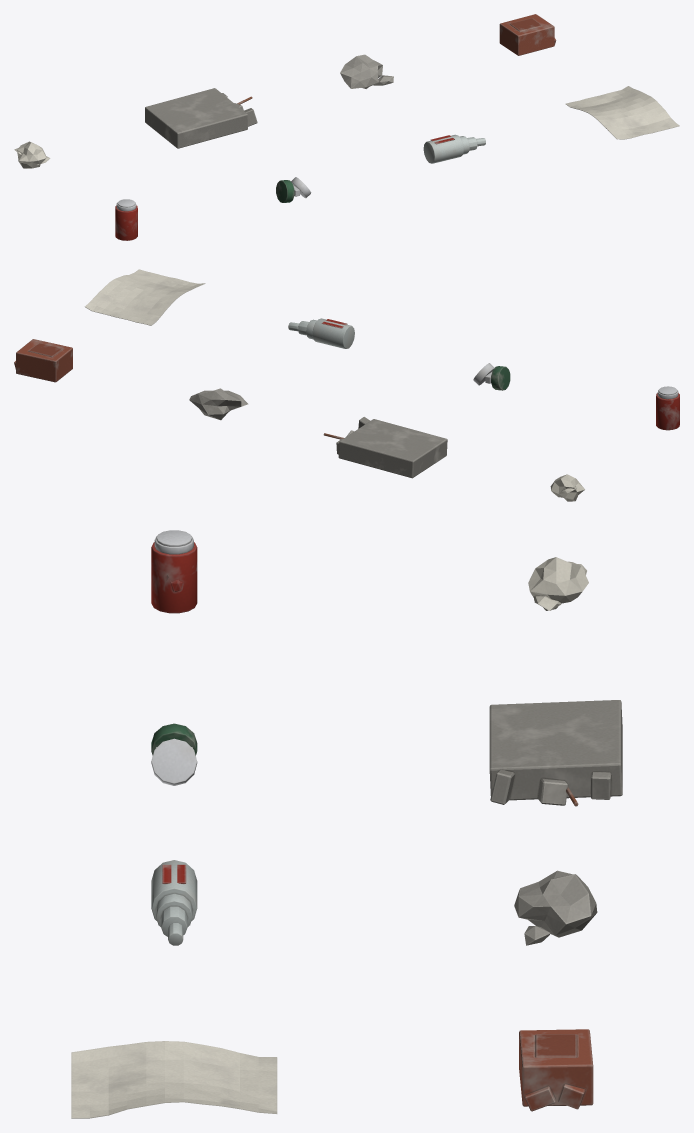
The model's file is litter_atlas.glb.
3 renders of one model, top to bottom at view 1: azimuth 30°, elevation 25°; view 2: azimuth 150°, elevation 25°; view 3: azimuth 270°, elevation 25°, orthographic. The views are drawn at different scales.
Parts seen in each view (by area): view 1: litter_atlas; view 2: litter_atlas; view 3: litter_atlas.
Boxes of the visible parts, box(x1,y1,x2,y2) form: litter_atlas: box(14, 14, 679, 240); litter_atlas: box(14, 269, 679, 501); litter_atlas: box(71, 530, 622, 1118).
Size of the model in its own units: 1.8 by 0.1214 by 0.7944.
Materials: 1 (1 with a texture image).
